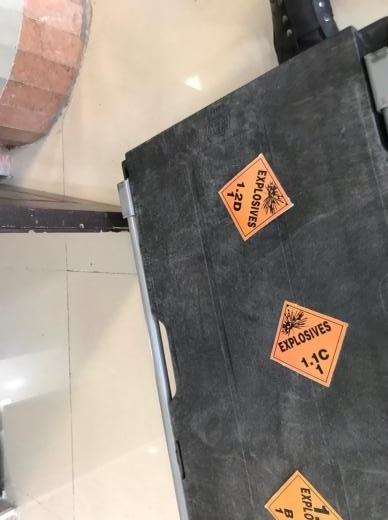explosive: (269, 300, 349, 389), (218, 152, 296, 243), (261, 469, 342, 520)
